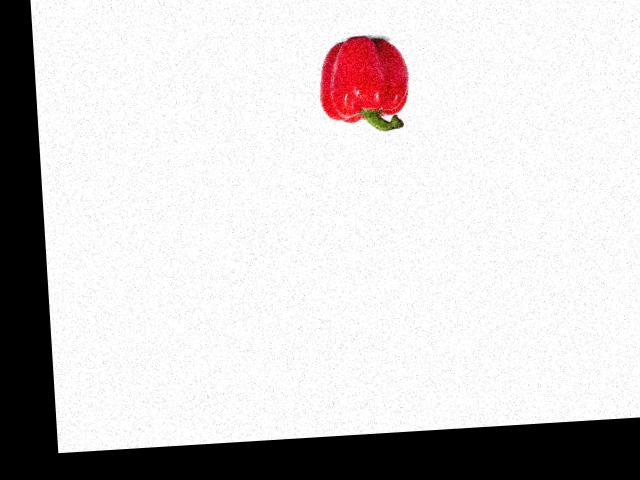bell_pepper: (311, 34, 414, 137)
